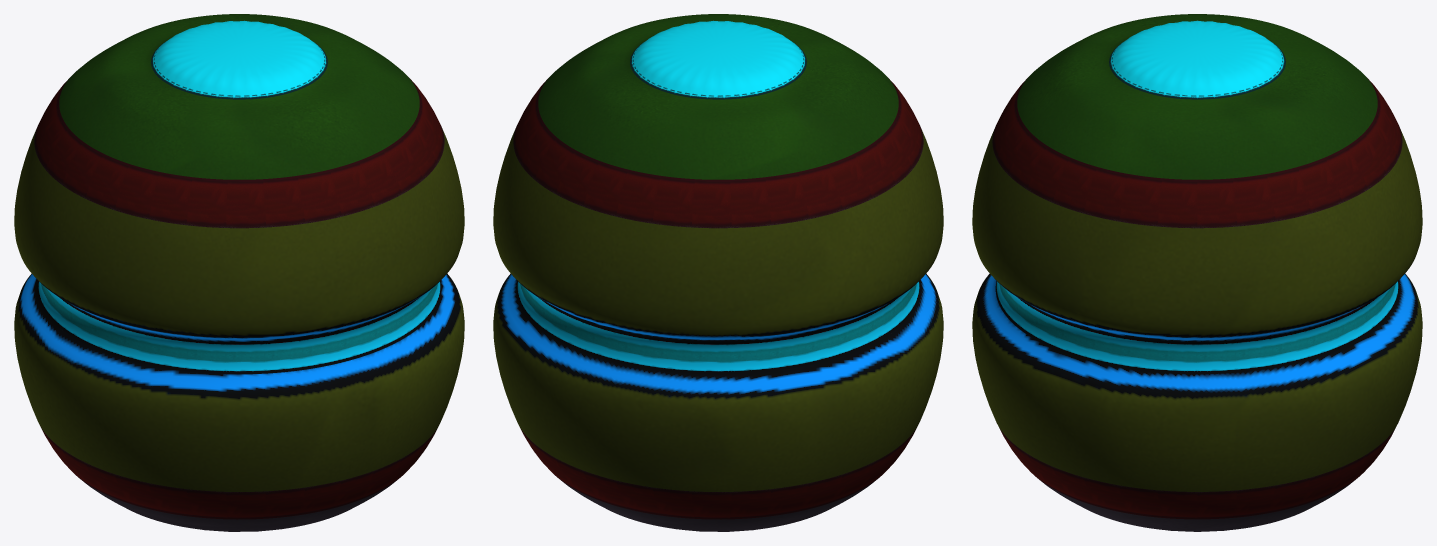
The model's file is Fuel.fbx.
The picture shows the model from 3 angles, left to right: view 1: azimuth 30°, elevation 25°; view 2: azimuth 150°, elevation 25°; view 3: azimuth 270°, elevation 25°; orthographic projection.
Parts seen in each view (by area): view 1: Cylinder; view 2: Cylinder; view 3: Cylinder.
Part boxes in pixels (left/top/right/bottom): Cylinder: left=14, top=14, right=464, bottom=531; Cylinder: left=493, top=14, right=943, bottom=531; Cylinder: left=972, top=14, right=1422, bottom=531.
Size of the model in its own units: 1.19 by 1.19 by 1.27.
Materials: 1 (1 with a texture image).
